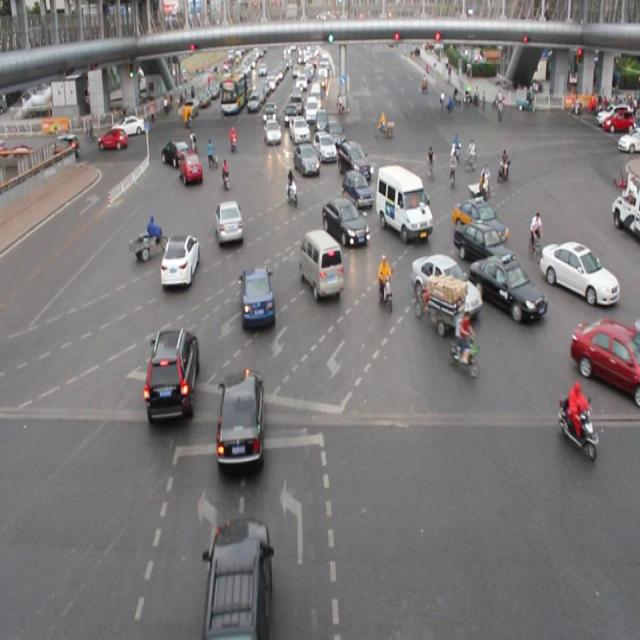car: (201, 512, 277, 640), (146, 326, 200, 430), (567, 318, 640, 394), (218, 368, 268, 476), (538, 242, 616, 304), (470, 255, 543, 320), (409, 258, 481, 317), (452, 215, 511, 269), (237, 263, 276, 331), (452, 195, 506, 242), (322, 197, 369, 250), (158, 232, 200, 290), (394, 170, 435, 222), (212, 196, 244, 252), (337, 138, 373, 184), (340, 170, 373, 212), (292, 139, 319, 180), (160, 139, 190, 173), (178, 150, 204, 185), (311, 127, 336, 163)
truck: (373, 162, 434, 244), (297, 228, 345, 299)
